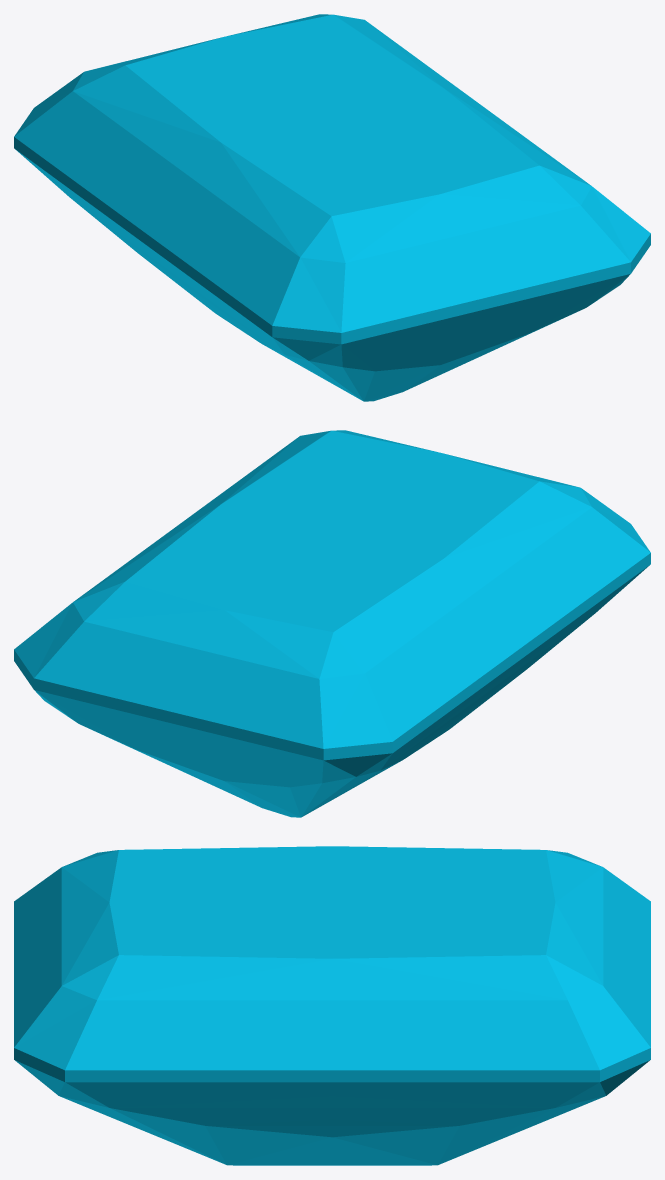
The model's file is Head_No Halo_Radiant_2.0ct_Diamond.glb.
The picture shows the model from 3 angles, top to bottom: view 1: azimuth 30°, elevation 25°; view 2: azimuth 150°, elevation 25°; view 3: azimuth 270°, elevation 25°; orthographic projection. The views are drawn at different scales.
Bounding box in the file's own units: 0.0064 × 0.00411 × 0.009.
